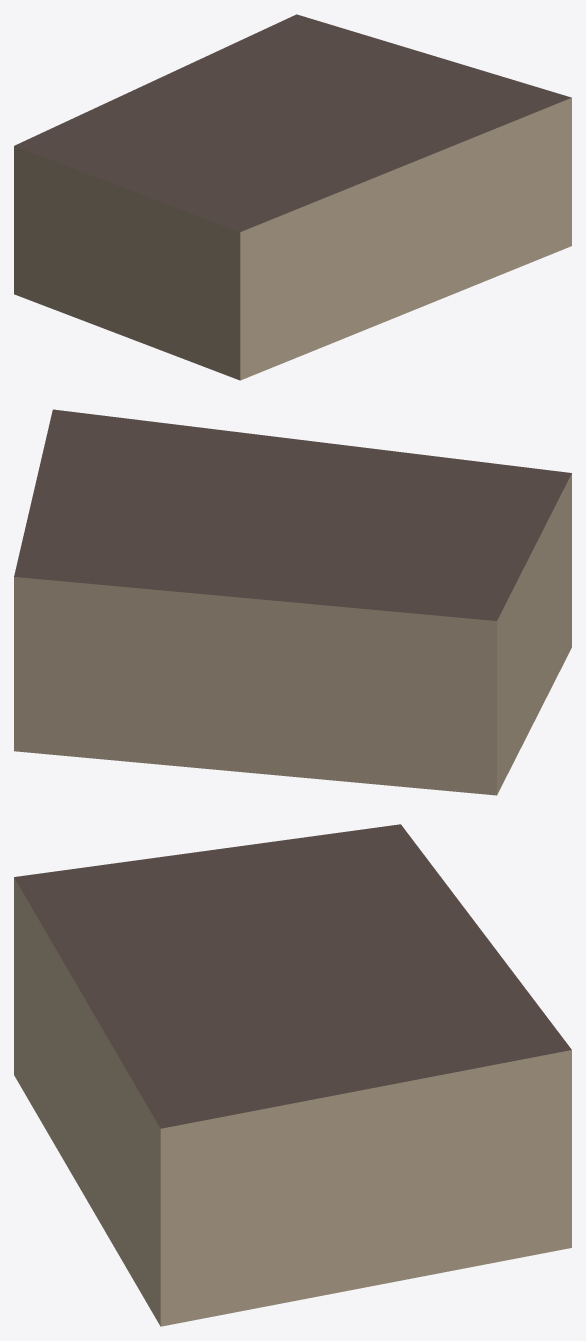
The picture shows the model from 3 angles, top to bottom: view 1: azimuth 30°, elevation 25°; view 2: azimuth 150°, elevation 25°; view 3: azimuth 270°, elevation 25°; orthographic projection. The views are drawn at different scales.
Visible parts, largest first — view 1: HP-w369317516; view 2: HP-w369317516; view 3: HP-w369317516.
Boxes of the visible parts, bbox=[...] form: HP-w369317516: bbox=[14, 14, 571, 380]; HP-w369317516: bbox=[14, 409, 571, 795]; HP-w369317516: bbox=[14, 824, 571, 1326].
Bounding box in the file's own units: 29.7 × 9 × 23.
